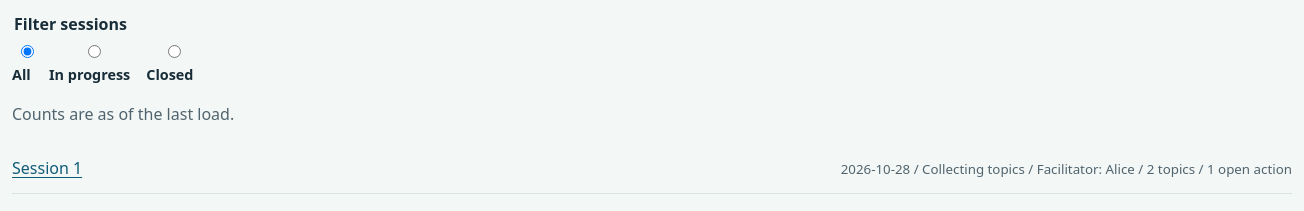
Scenario: SH4/6: a slow response for an old filter is ignored after a newer filter choice
Click the radio button labelled "Closed" at coordinates (175, 51), box [151,45,198,58]
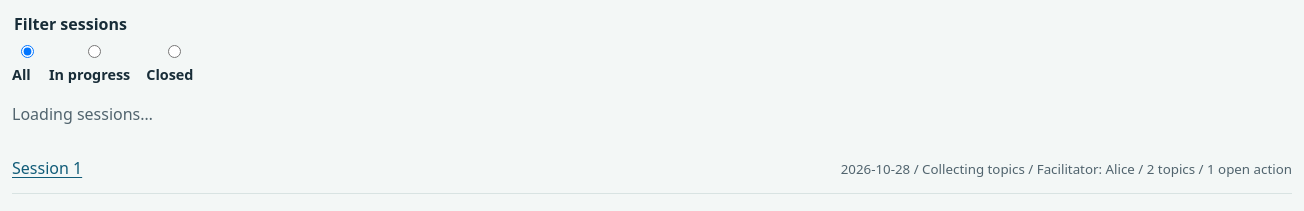
Click the radio button labelled "In progress" at coordinates (95, 51), box [54,45,135,58]
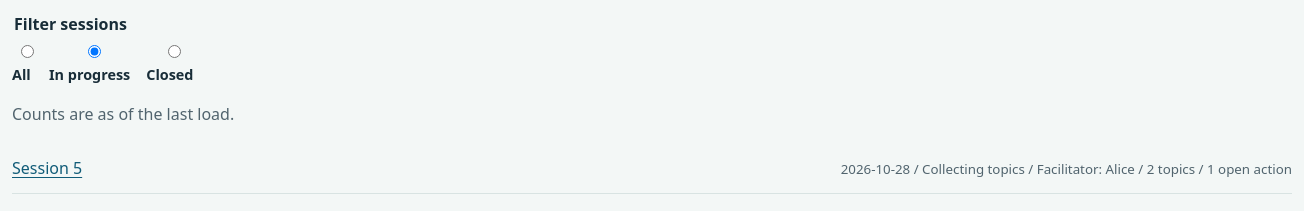
Now the radio button labelled "In progress" is checked, box [54,45,135,58]
Now the links read "Session 5", in this order, box [12,156,82,181]
